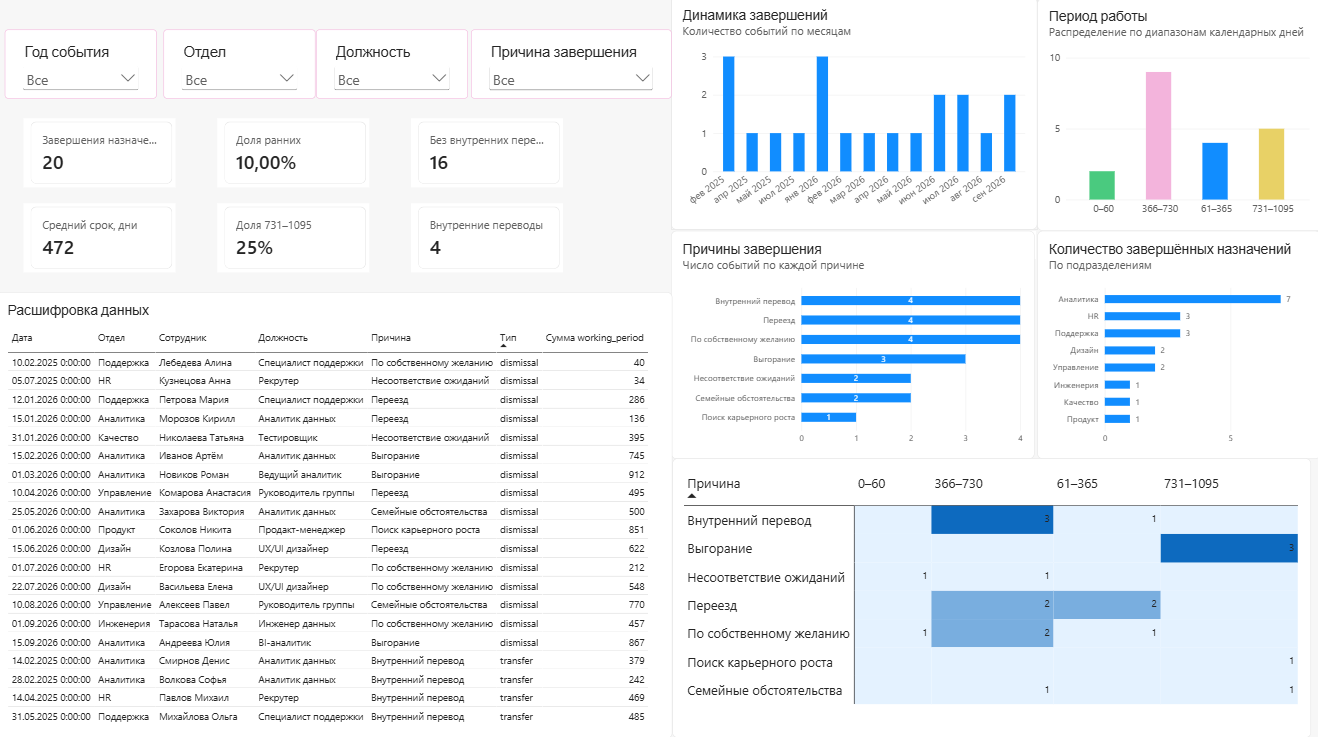

The page's visual inventory and layout, read from the dashboard file:
{"tool":"powerbi","page":{"name":"Текучка","canvas":[1920,1080],"ordinal":1},"visuals":[{"type":"cardVisual","fields":{"Data":["Turnover.Завершения назначений"]},"box":[40,183.1,220,100],"z":0},{"type":"cardVisual","fields":{"Data":["Turnover.Средний срок, дни"]},"box":[40,306.4,220,100],"z":1000},{"type":"cardVisual","fields":{"Data":["Turnover.Доля ранних"]},"box":[320,183.1,220,100],"z":2000},{"type":"cardVisual","fields":{"Data":["Turnover.Доля 731–1095"]},"box":[320,306.4,220,100],"z":3000},{"type":"cardVisual","fields":{"Data":["Turnover.Без внутренних переводов"]},"box":[600,183.1,220,100],"z":4000},{"type":"cardVisual","fields":{"Data":["Turnover.Внутренние переводы"]},"box":[600,306.4,220,100],"z":5000},{"type":"clusteredColumnChart","title":"Динамика завершений","fields":{"Category":["Calendar.Месяц"],"Y":["Turnover.Завершения назначений"]},"box":[977.5,7.5,530,336.7],"z":6000},{"type":"clusteredBarChart","title":"Причины завершения","fields":{"Category":["Turnover.reason"],"Y":["Turnover.Завершения назначений"]},"box":[977.5,345,526.7,330],"z":7000},{"type":"clusteredBarChart","title":"Количество завершённых назначений","fields":{"Category":["Turnover.department"],"Y":["Turnover.Завершения назначений"]},"box":[1508.3,345,410,330],"z":8000},{"type":"clusteredColumnChart","title":"Период работы","fields":{"Category":["Turnover.ГруппаСтажа"],"Y":["Turnover.Завершения назначений"]},"box":[1508.3,8.3,411.7,336.7],"z":9000},{"type":"pivotTable","title":"Причина × период работы","fields":{"Columns":["Turnover.ГруппаСтажа"],"Rows":["Turnover.reason"],"Values":["Turnover.Завершения назначений"]},"box":[978.3,675,925,405],"z":10000},{"type":"slicer","fields":{"Values":["Calendar.Год"]},"box":[13.3,54.2,220,100],"z":11000},{"type":"slicer","fields":{"Values":["Turnover.department"]},"box":[243.3,55,220,100],"z":12000},{"type":"slicer","fields":{"Values":["Turnover.post_name"]},"box":[463.3,54.2,220,100],"z":13000},{"type":"slicer","fields":{"Values":["Turnover.reason"]},"box":[688.3,55,290,100],"z":14000},{"type":"tableEx","title":"Расшифровка данных","fields":{"Values":["Turnover.end_date","Turnover.department","Turnover.employee","Turnover.post_name","Turnover.reason","Turnover.reason_type","Sum(Turnover.working_period)"]},"box":[0,434.3,979,646],"z":16000}]}

Visuals, with their boxes in screenshot pixels (x1, y1, x2, y2), scaled from the page's 1920x1080 canvas onto the 1318x737 screenshot:
cardVisual - Turnover.Завершения назначений: x1=27, y1=125, x2=178, y2=193
cardVisual - Turnover.Средний срок, дни: x1=27, y1=209, x2=178, y2=277
cardVisual - Turnover.Доля ранних: x1=220, y1=125, x2=371, y2=193
cardVisual - Turnover.Доля 731–1095: x1=220, y1=209, x2=371, y2=277
cardVisual - Turnover.Без внутренних переводов: x1=412, y1=125, x2=563, y2=193
cardVisual - Turnover.Внутренние переводы: x1=412, y1=209, x2=563, y2=277
"Динамика завершений" clusteredColumnChart: x1=671, y1=5, x2=1035, y2=235
"Причины завершения" clusteredBarChart: x1=671, y1=235, x2=1033, y2=461
"Количество завершённых назначений" clusteredBarChart: x1=1035, y1=235, x2=1317, y2=461
"Период работы" clusteredColumnChart: x1=1035, y1=6, x2=1317, y2=235
"Причина × период работы" pivotTable: x1=672, y1=461, x2=1307, y2=736
slicer - Calendar.Год: x1=9, y1=37, x2=160, y2=105
slicer - Turnover.department: x1=167, y1=38, x2=318, y2=106
slicer - Turnover.post_name: x1=318, y1=37, x2=469, y2=105
slicer - Turnover.reason: x1=472, y1=38, x2=672, y2=106
"Расшифровка данных" tableEx: x1=0, y1=296, x2=672, y2=736
